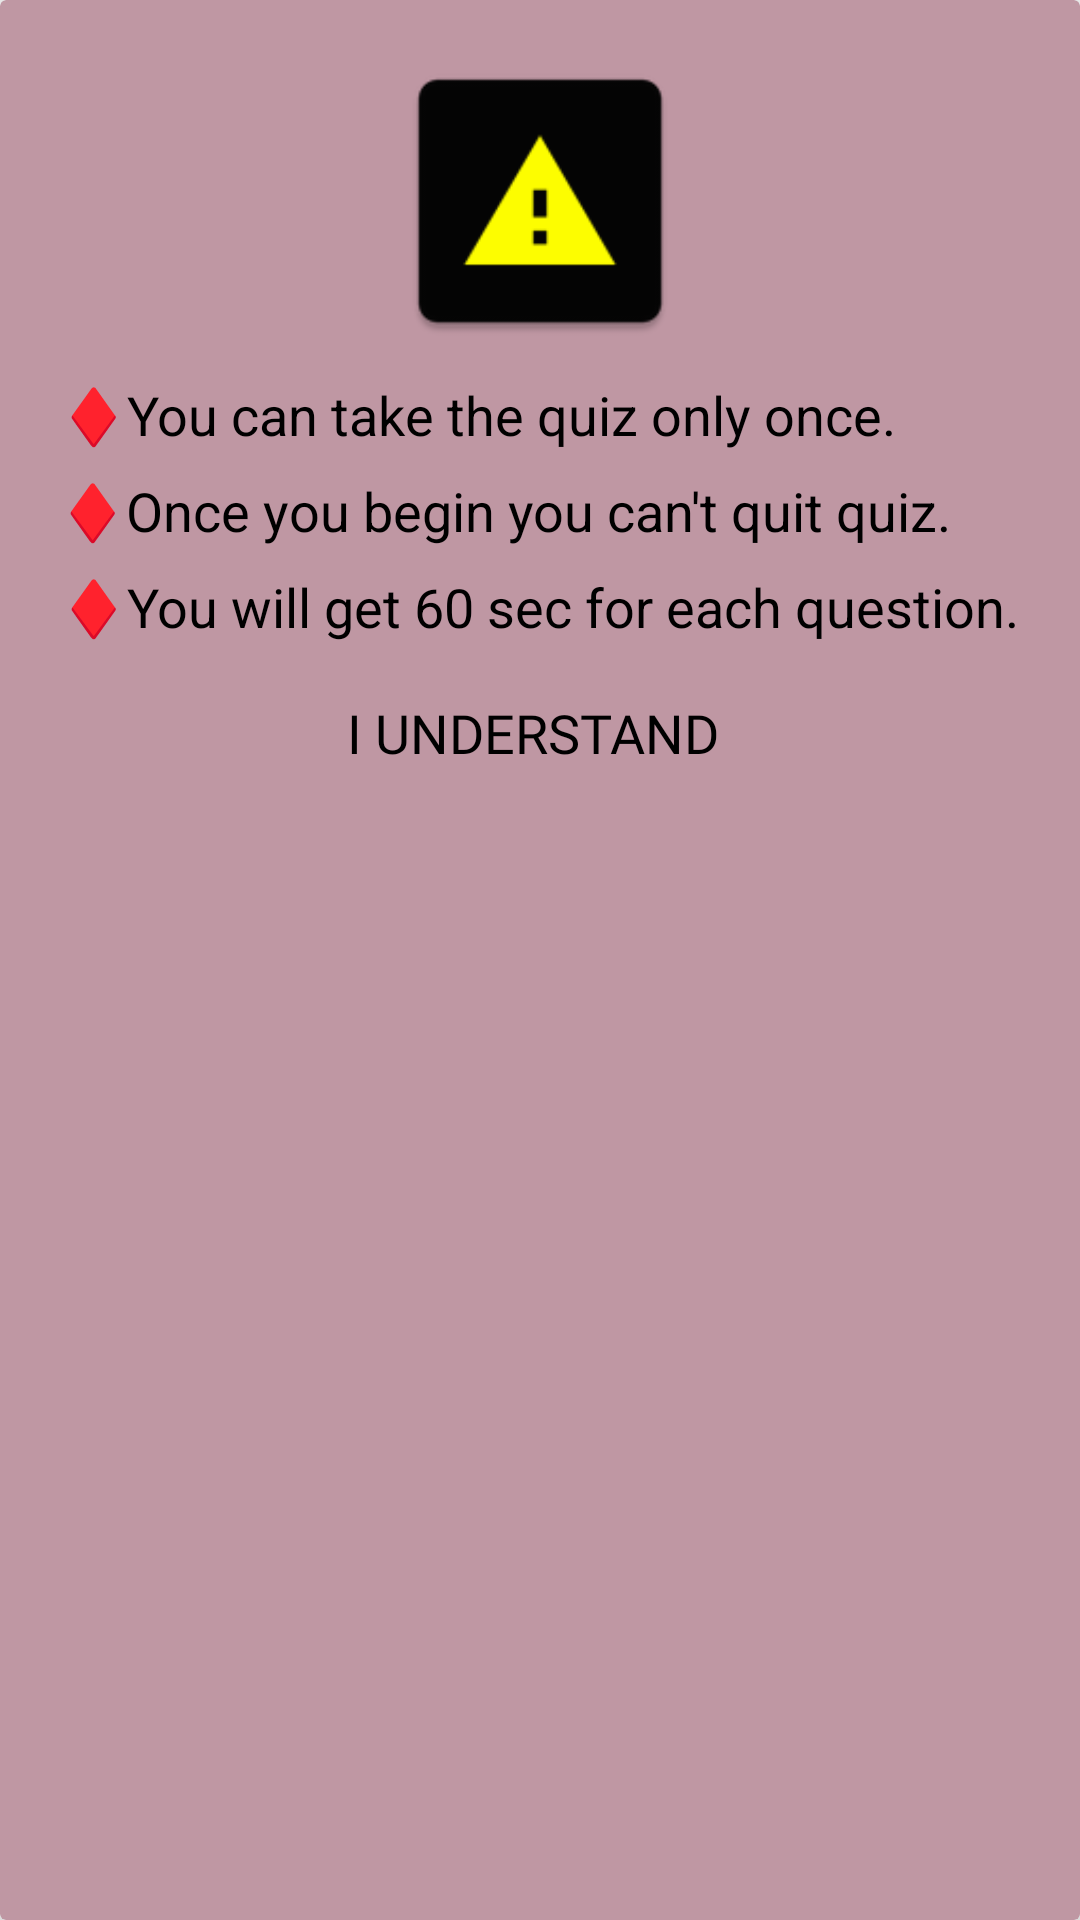

Named icons in this screenshot (1080*1920) and their centers, [x,y]:
alert: [540,204]
